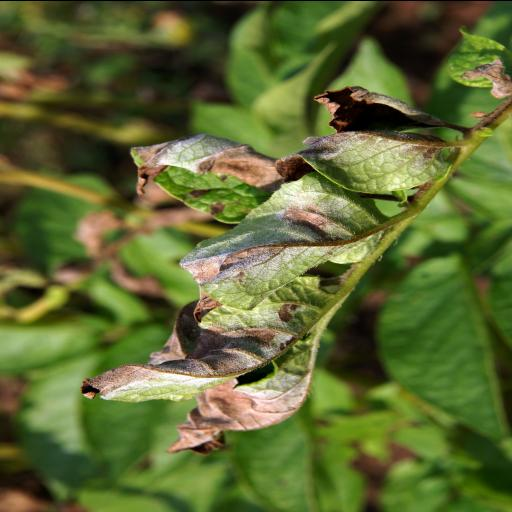disease_tomato: (173, 170, 391, 320), (78, 292, 342, 403), (169, 320, 333, 453), (128, 133, 281, 223), (275, 128, 481, 194)
